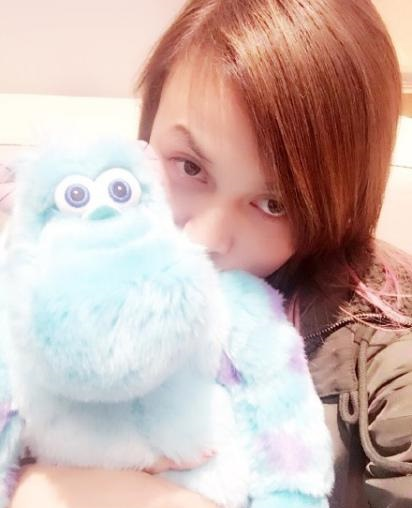face: (140, 63, 315, 311)
